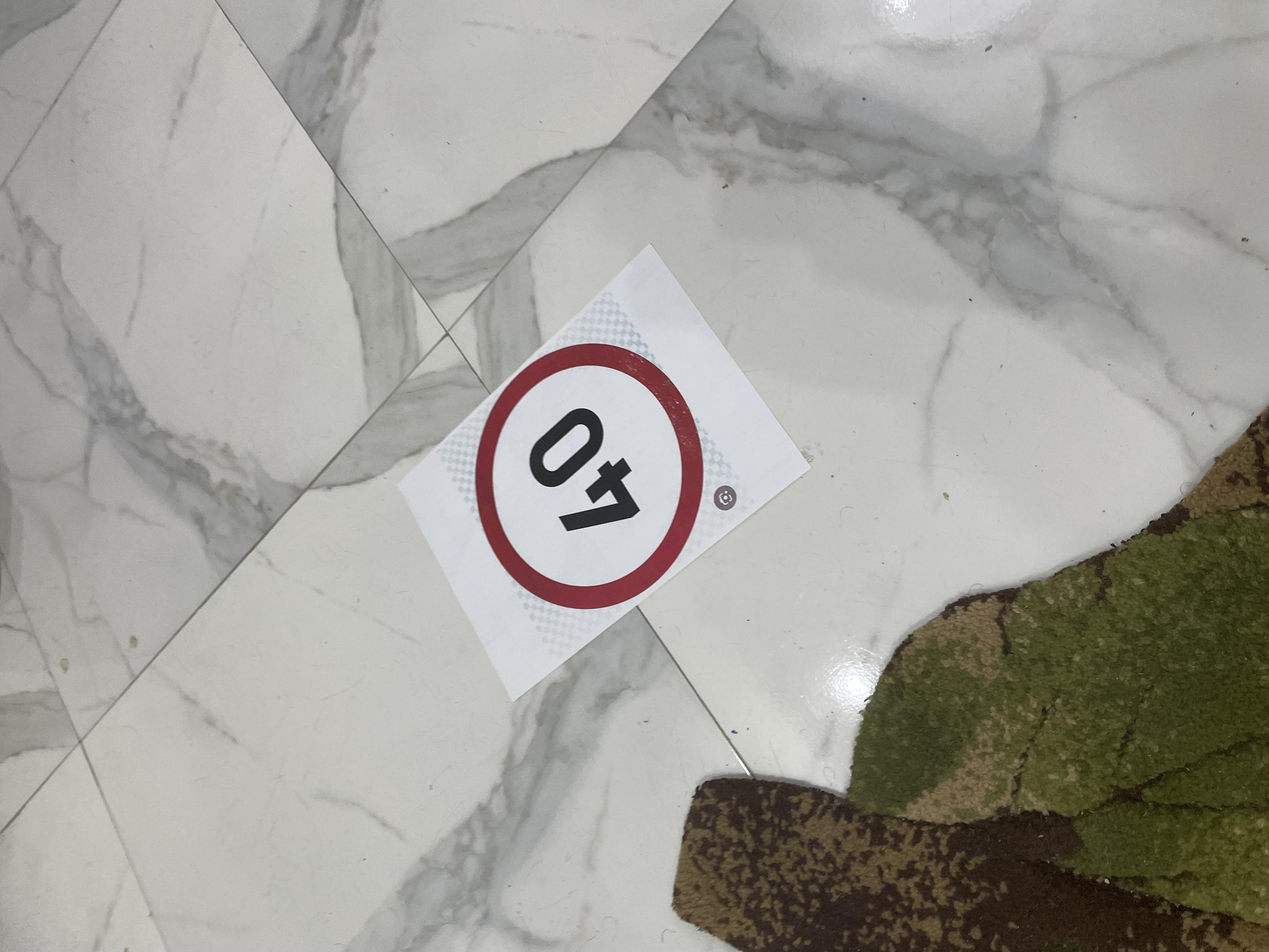40-Speed: (447, 350, 823, 530)
